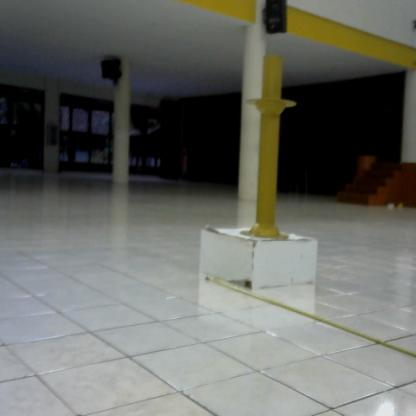pole: (241, 52, 304, 243)
